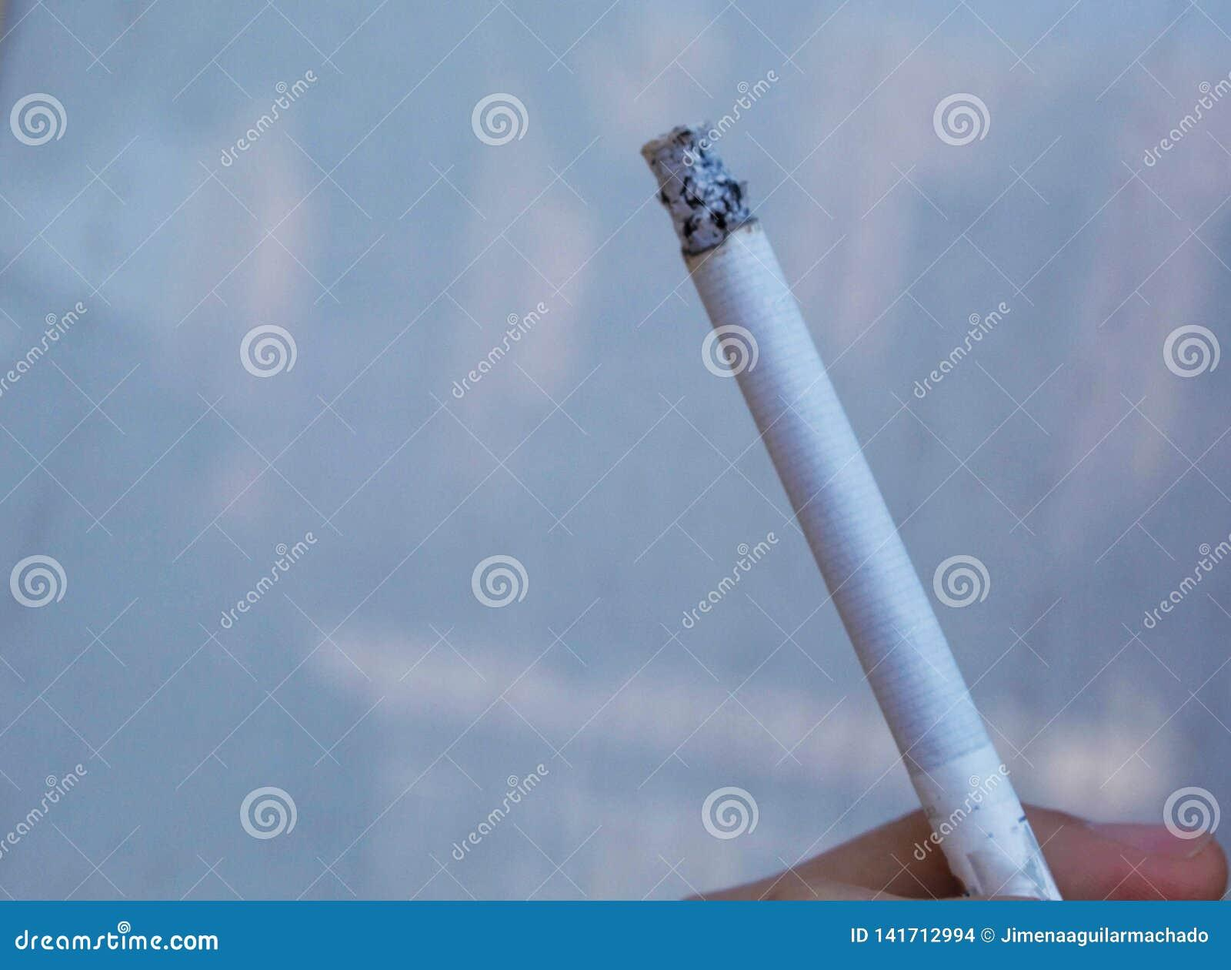cigarette: (642, 127, 1059, 898)
